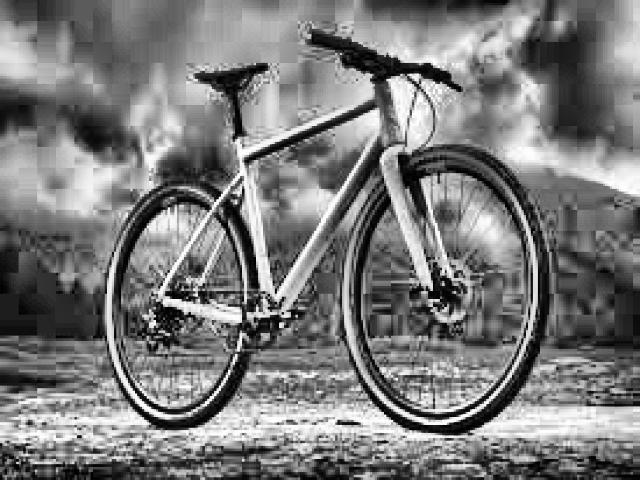cranks_set: (240, 290, 290, 348)
pedal: (282, 294, 311, 318)
rear_derailleur: (138, 308, 174, 355)
saddle: (194, 60, 271, 92)
wheel: (339, 142, 553, 436), (102, 181, 258, 433)
